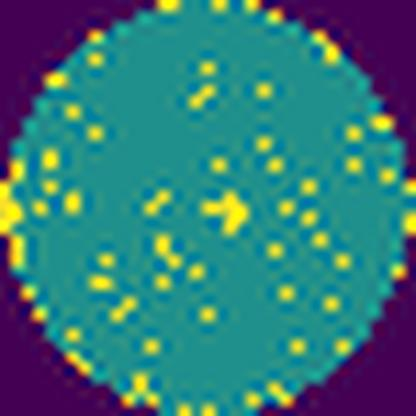Center: (197, 181, 250, 241)
